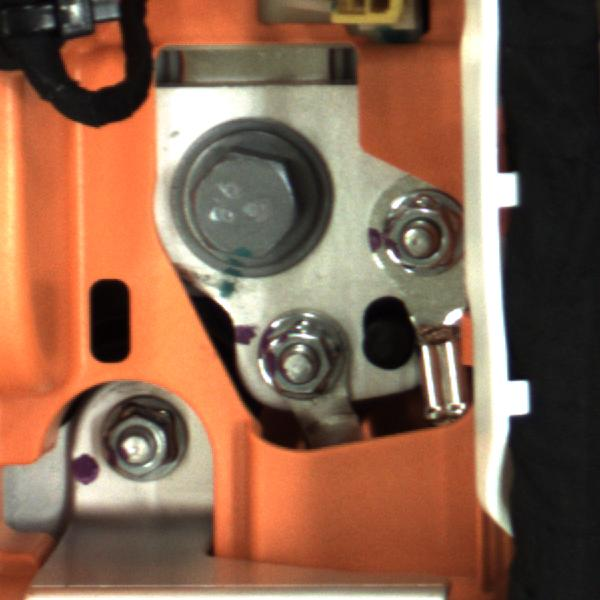nut_b: (158, 124, 329, 268)
screw_s: (243, 309, 347, 410), (378, 189, 466, 288), (103, 399, 197, 487)
